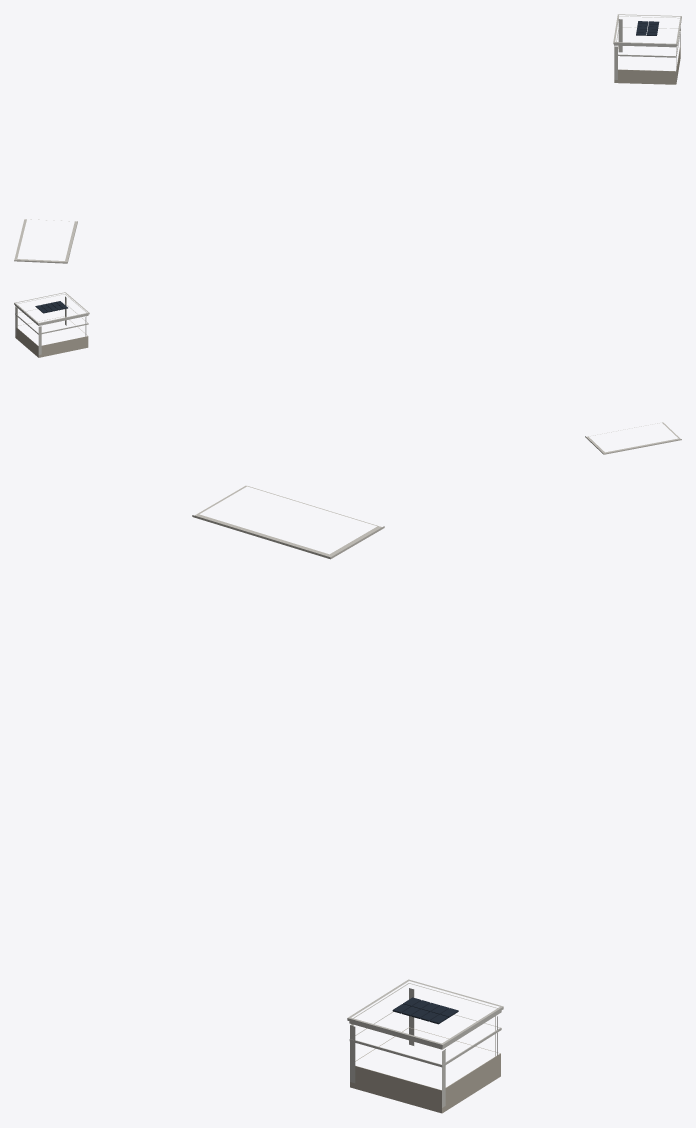
3 views of the same model, one above another, from view 1: azimuth 30°, elevation 25°; view 2: azimuth 150°, elevation 25°; view 3: azimuth 270°, elevation 25° (orthographic). The views are drawn at different scales.
Visible parts, largest first — view 1: detail; view 2: detail; view 3: detail.
Boxes of the visible parts, left/top/right/bottom form: detail: left=14, top=14, right=681, bottom=263; detail: left=14, top=292, right=681, bottom=454; detail: left=192, top=485, right=503, bottom=1113.
Bounding box in the file's own units: 139 × 7.71 × 30.38.
